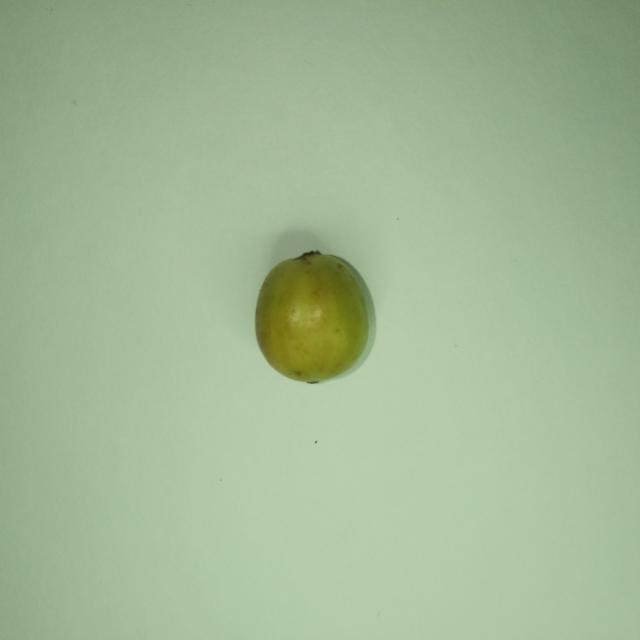Sano: (256, 251, 371, 383)
